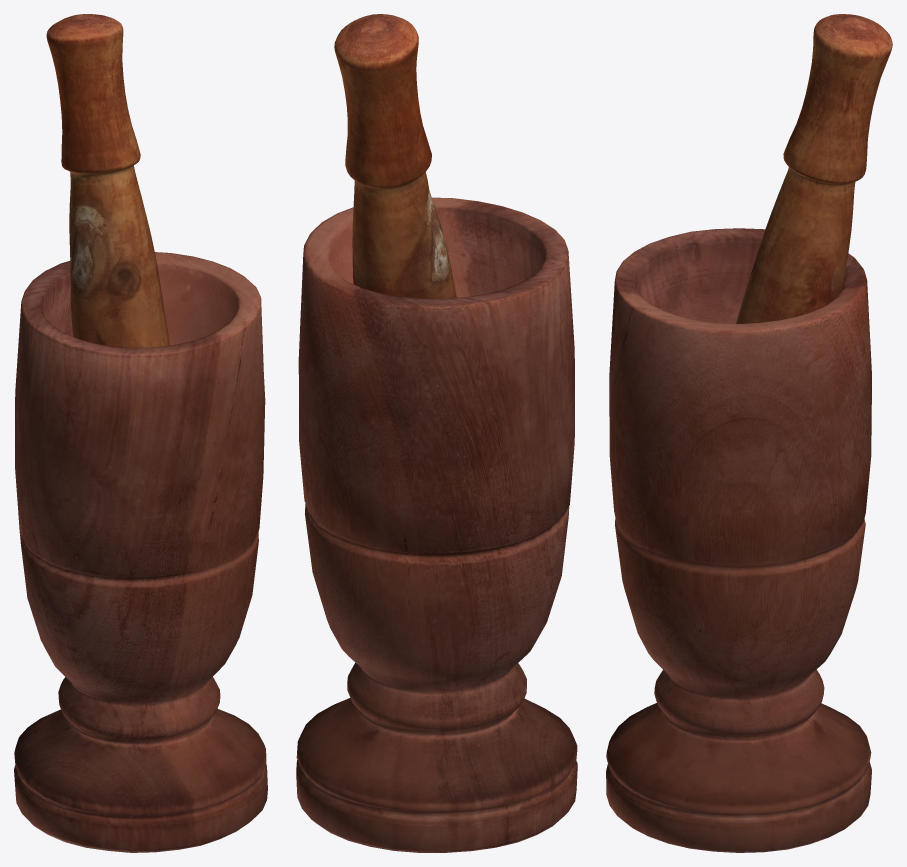
The model's file is Grinder.fbx.
3 views of the same model, side by side, from view 1: azimuth 30°, elevation 25°; view 2: azimuth 150°, elevation 25°; view 3: azimuth 270°, elevation 25° (orthographic). The views are drawn at different scales.
Visible parts, largest first — view 1: Vase, Stick; view 2: Vase, Stick; view 3: Vase, Stick.
Part boxes in pixels (x1=…): Vase: x1=14, y1=252, x2=267, y2=852; Stick: x1=46, y1=14, x2=169, y2=347; Vase: x1=296, y1=197, x2=577, y2=852; Stick: x1=334, y1=14, x2=456, y2=298; Vase: x1=606, y1=228, x2=871, y2=852; Stick: x1=736, y1=14, x2=892, y2=323.
Bounding box in the file's own units: 20.21 × 65.01 × 21.68.
2 materials, 2 textured.
